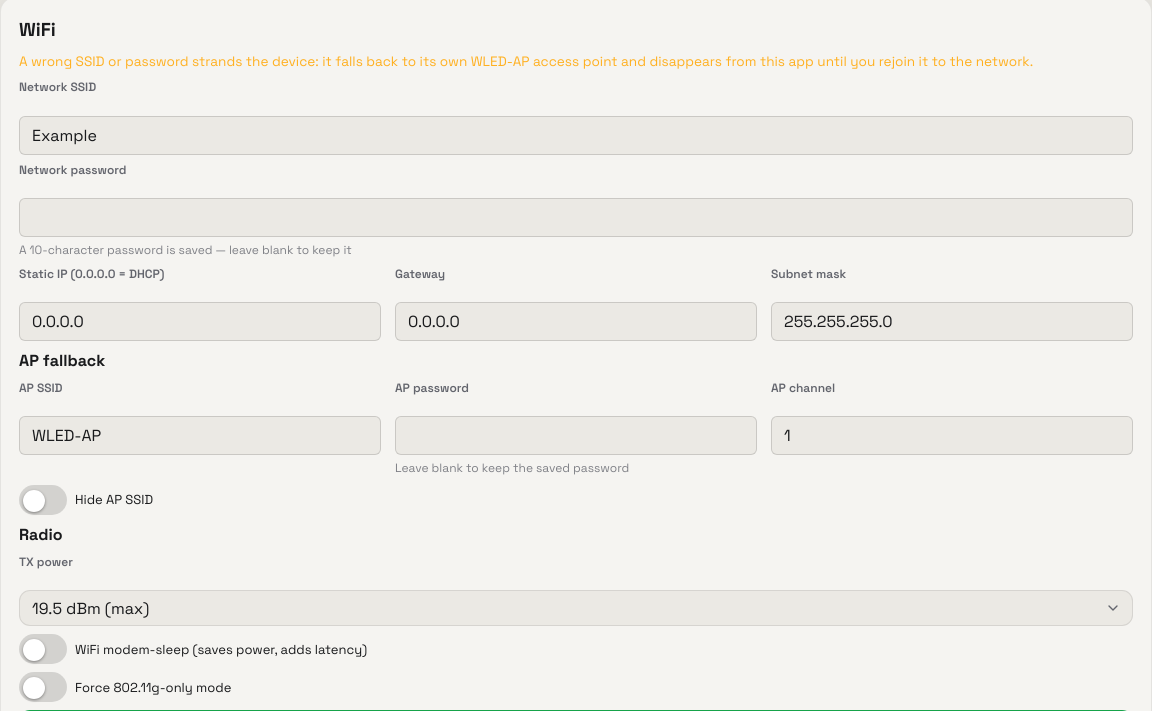
Test: WifiForm › an invalid static IP shows an error and blocks the save
Replace the text in the field labelled "Static IP (0.0.0.0 = DHCP)" with "lights.local". click: (200, 322)
box: [19,302,381,341]
(page scrolled)
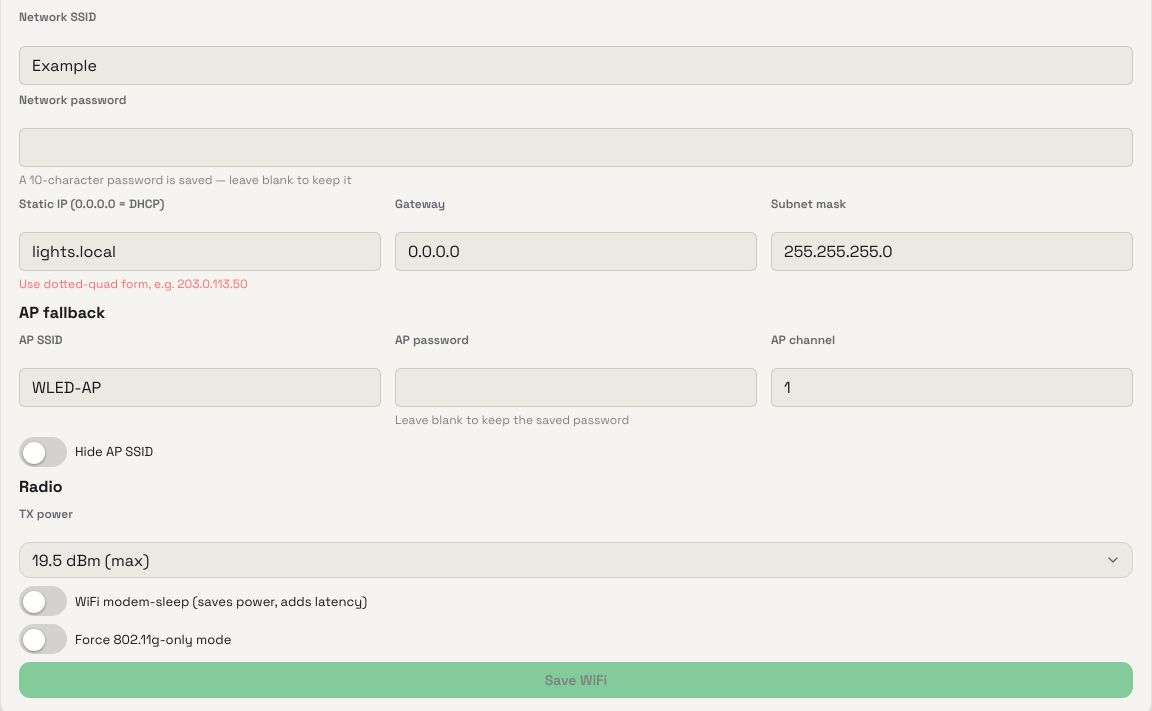
Expected: the message shows "dotted-quad", [19,276,248,292]
Expected: the button "Save WiFi" is disabled, [19,662,1133,698]
